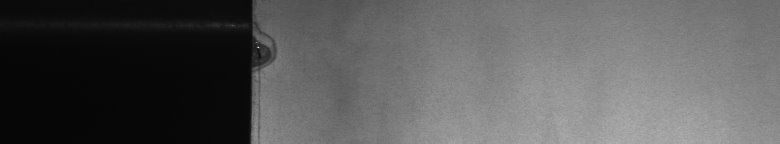hb: (264, 26, 282, 72)
